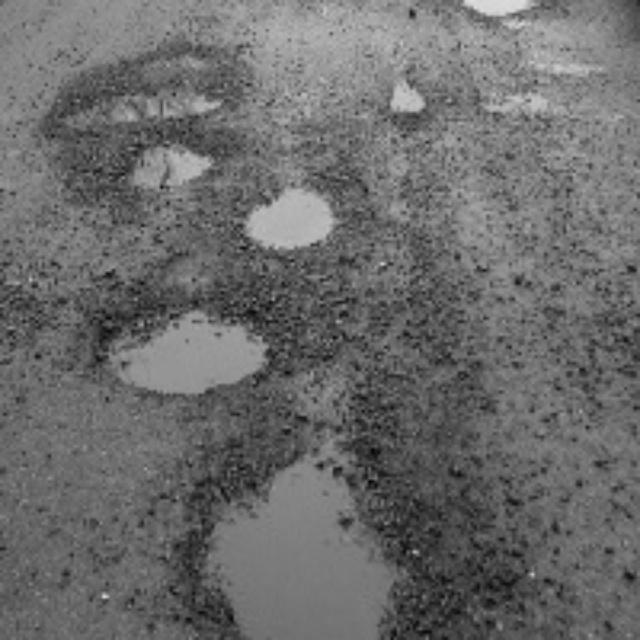Pothole: (172, 459, 488, 640), (98, 296, 255, 413), (228, 179, 338, 258), (72, 79, 224, 135), (376, 72, 455, 137), (119, 141, 203, 192)
